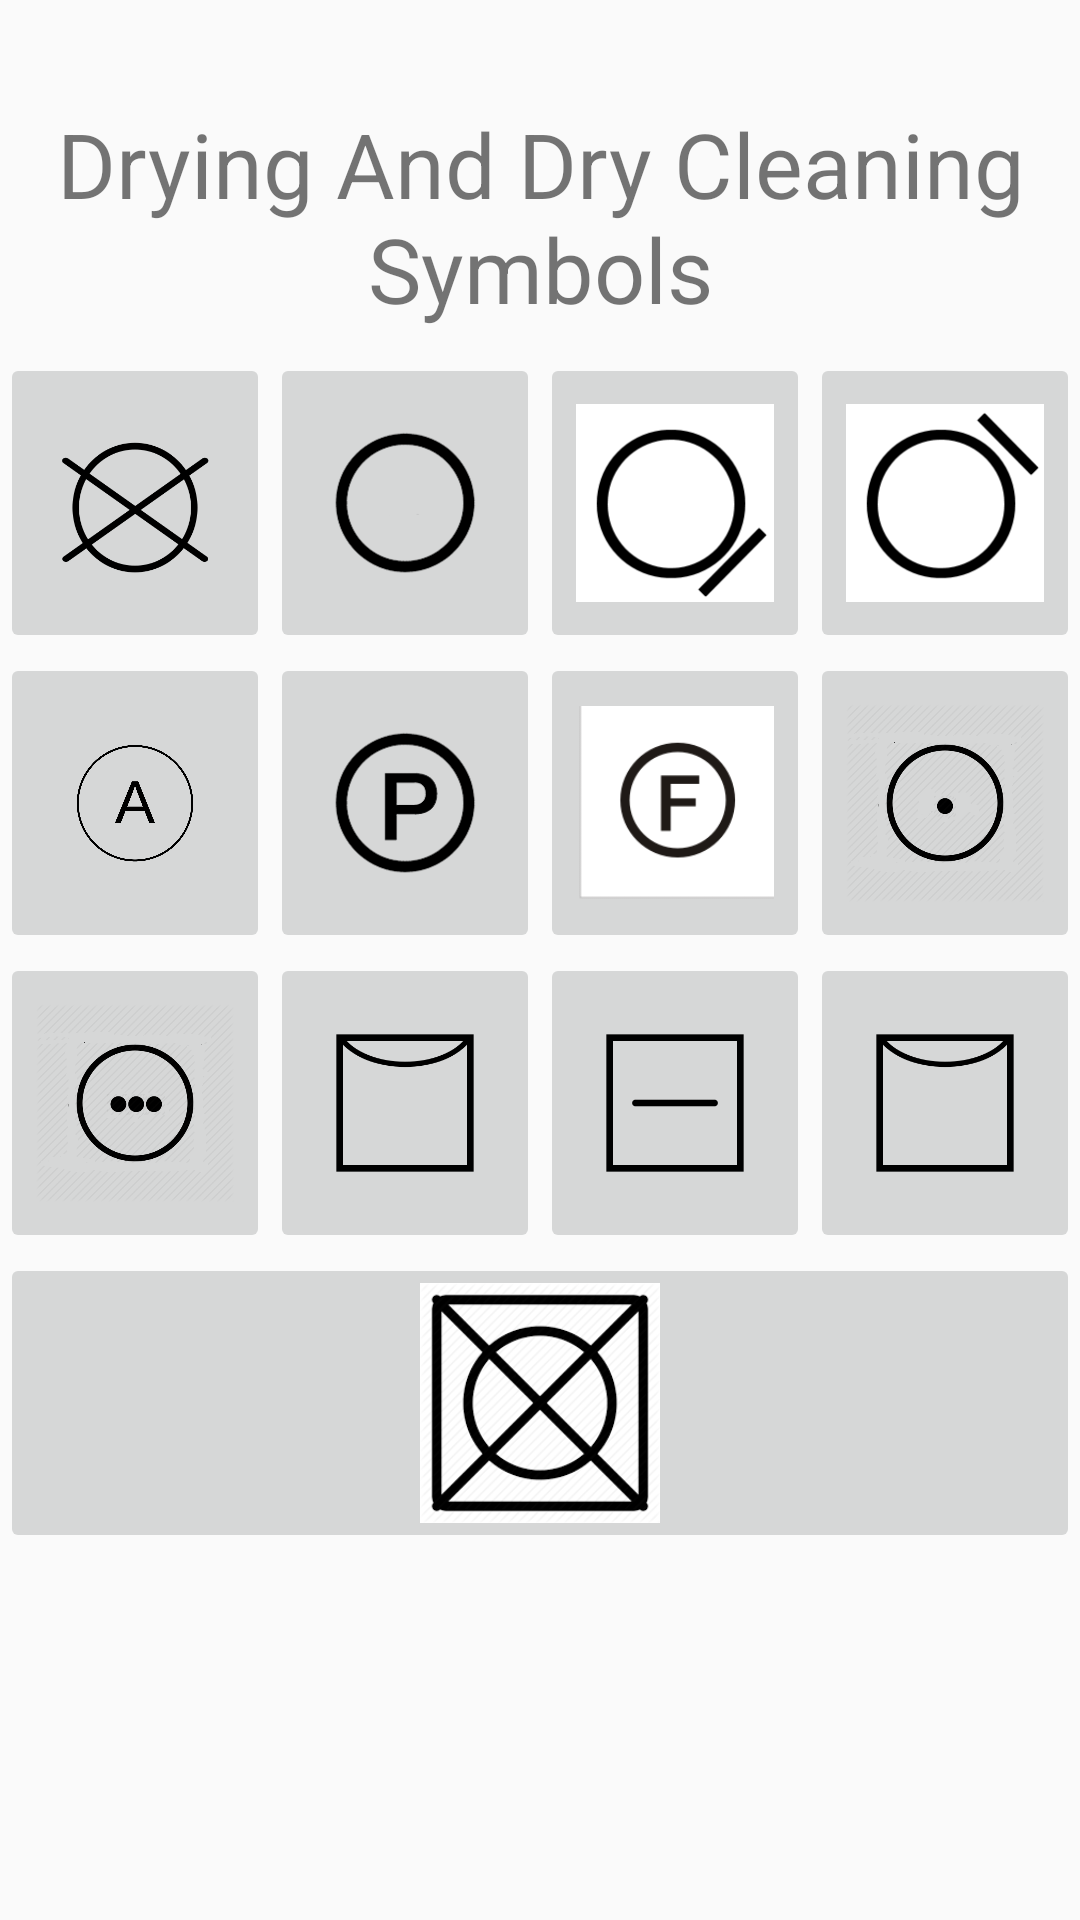

Where to tap for icons on this 1080w x 1920h app screen, as [x,y]:
Do Not Dry Clean: [135,503]
Dry Cleaning Allowed: [405,503]
Dry Cleaning Any Solvent: [135,803]
Dry Cleaning Low Heat: [675,503]
Dry Cleaning No Steam: [945,503]
Dry Cleaning Petroleum Solvent Only: [675,803]
Dry Flat: [675,1103]
Tumble Dry High Heat: [135,1103]
Tumble Dry Low Heat: [945,803]
